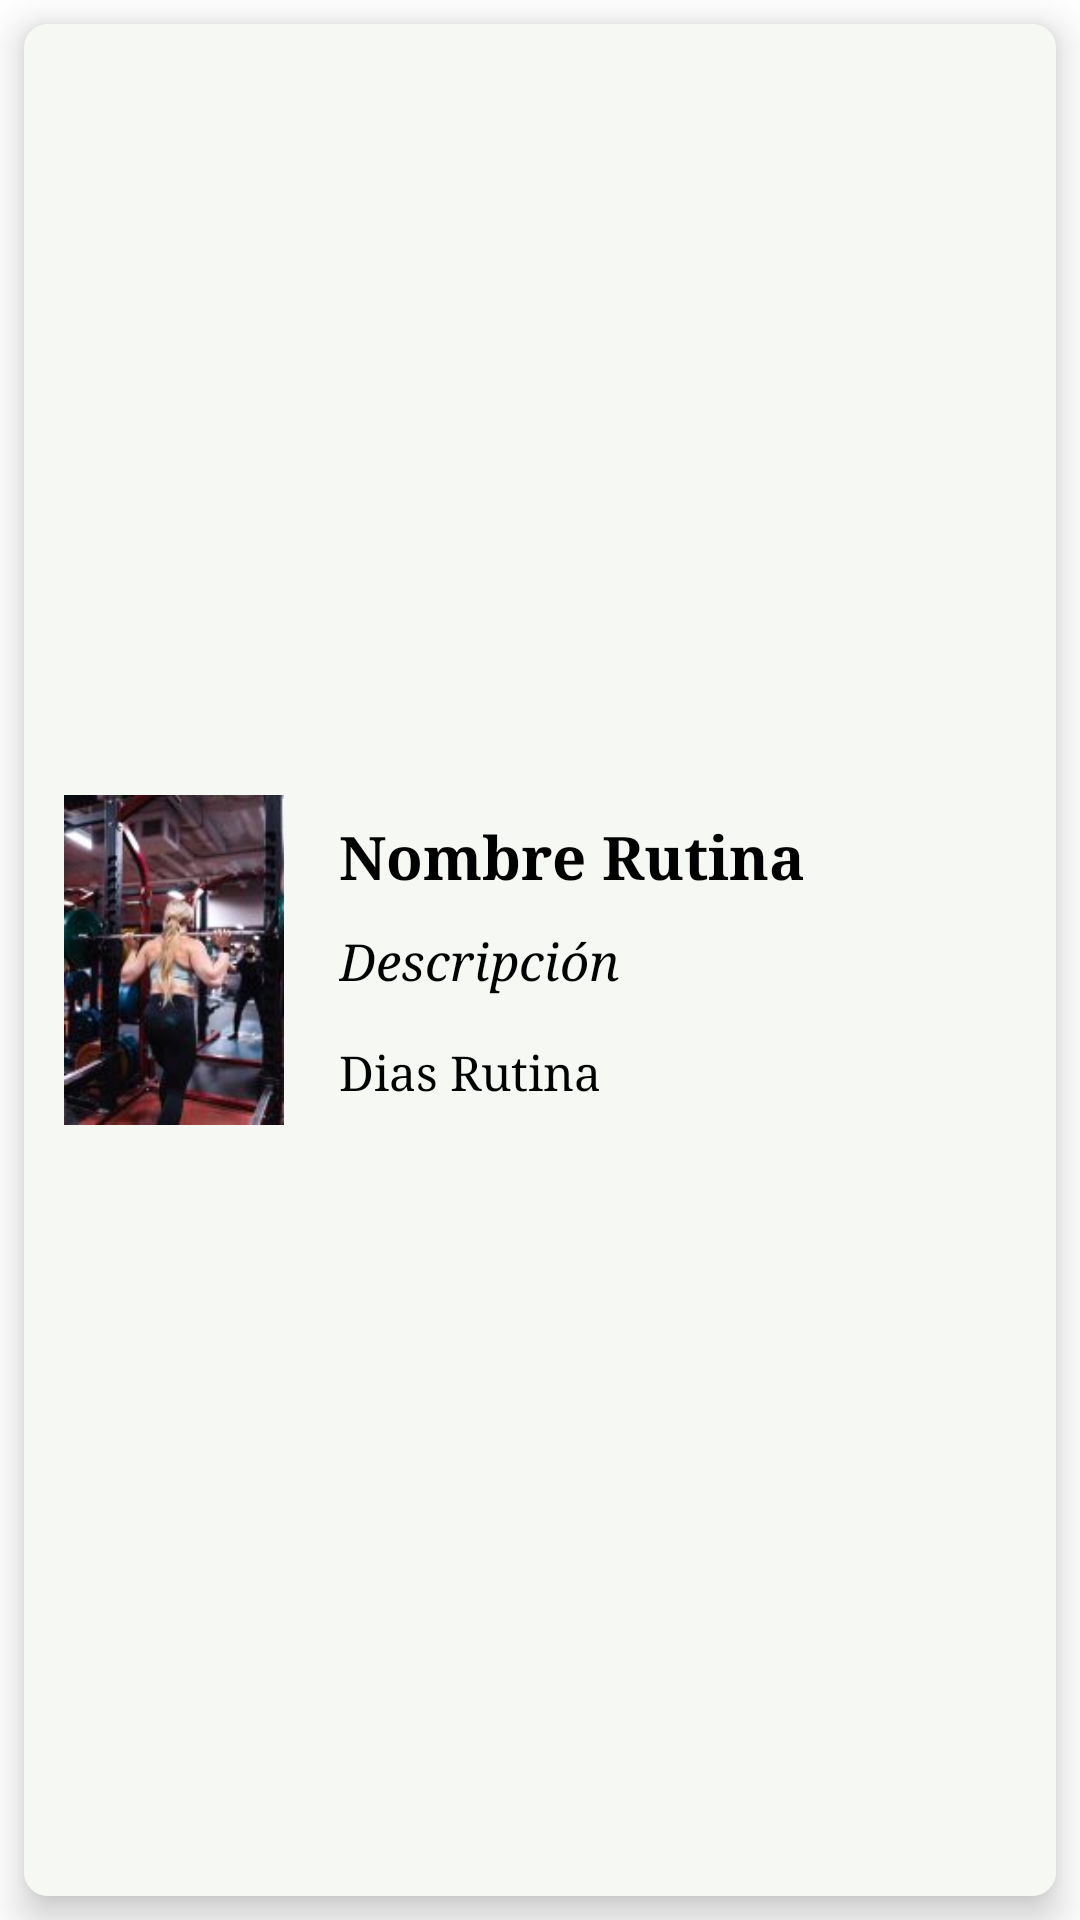

Icon bounding boxes for this 1080*1920 phone screenshot, format (x1, y1, x2, y2):
gym mujer: (64, 795, 284, 1125)
